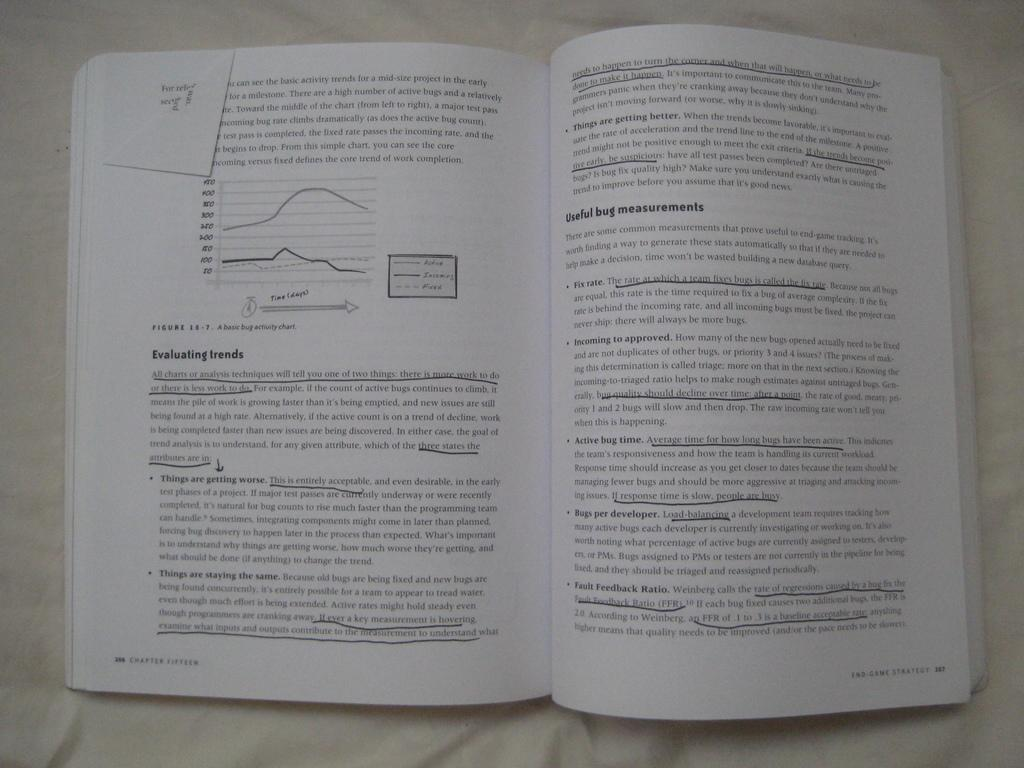book: (100, 15, 1024, 726)
